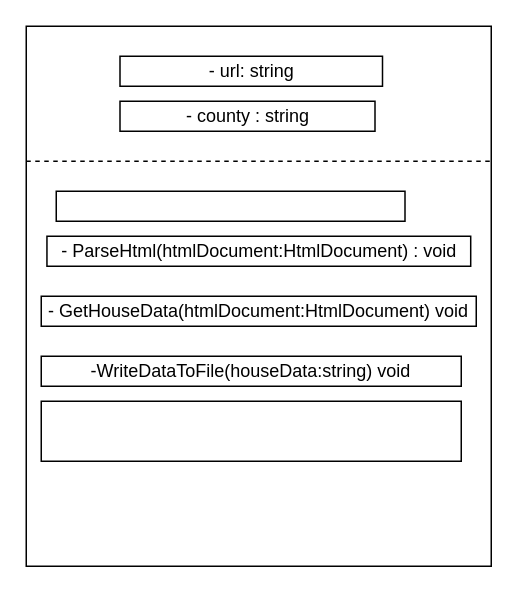
This 519x593 diagram has some shape labels left out. Here are the shapes that lost their labels. From the top down, the centre of each, then its label:
point 230,205: - GetHtml() async void
point 250,430: - ListBoxItem_Counties(object sender, RoutedEventArgs e) :void
